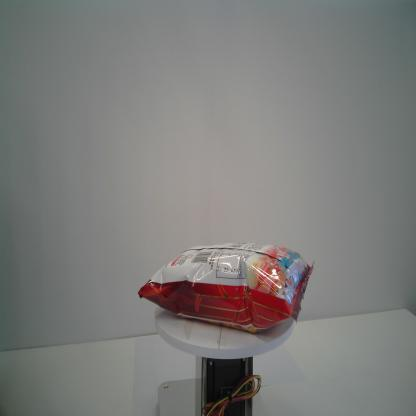Puffed Food: (137, 241, 316, 334)
